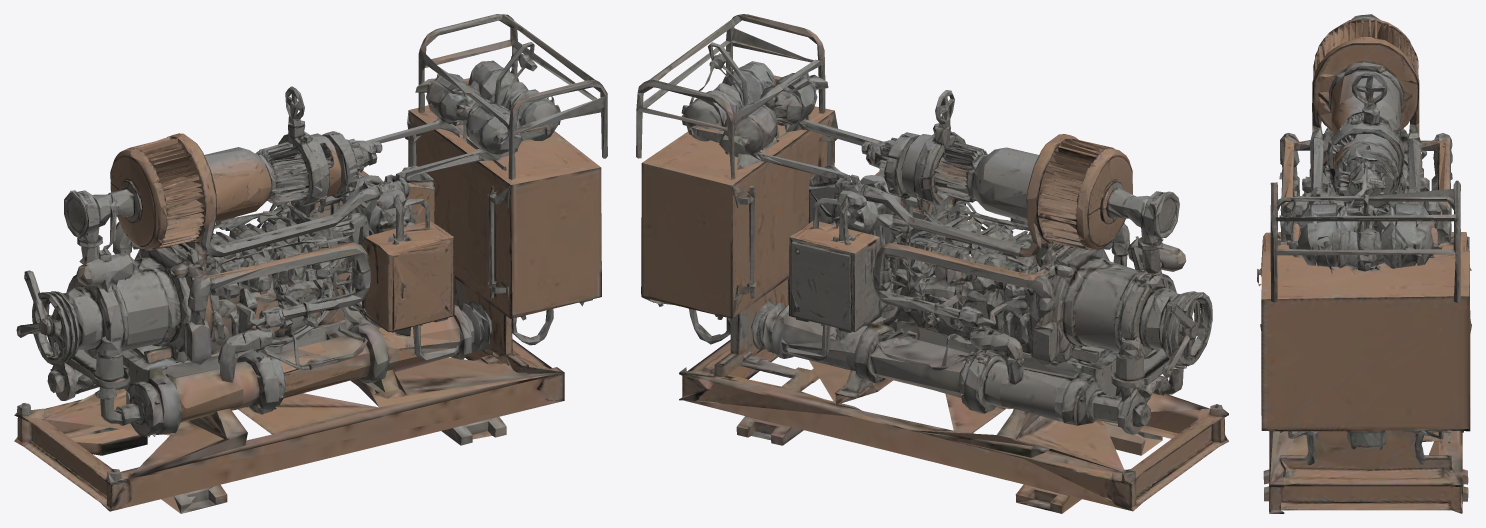
File: compressor_old.glb
The picture shows the model from 3 angles, left to right: view 1: azimuth 30°, elevation 25°; view 2: azimuth 150°, elevation 25°; view 3: azimuth 270°, elevation 25°; orthographic projection.
Size of the model in its own units: 1.9 by 1.22 by 0.6765.
Materials: 1 (1 with a texture image).
